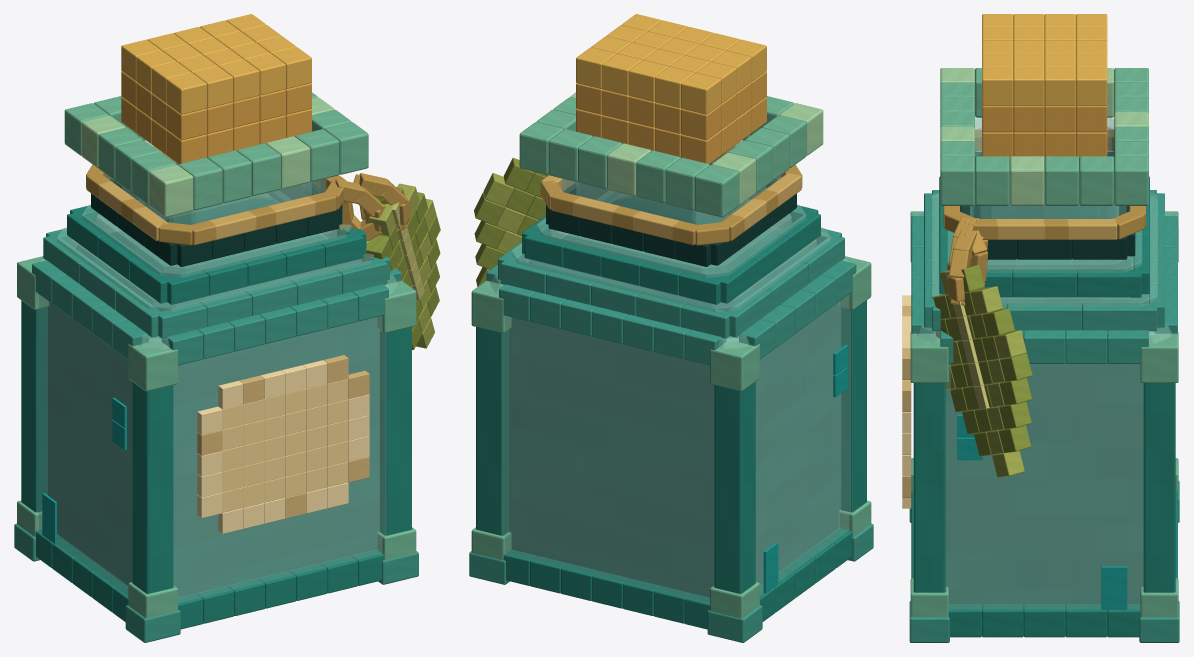
The model's file is SM_Blender_MossTonic.glb.
3 views of the same model, side by side, from view 1: azimuth 30°, elevation 25°; view 2: azimuth 150°, elevation 25°; view 3: azimuth 270°, elevation 25° (orthographic). The views are drawn at different scales.
Parts seen in each view (by area): view 1: SM_Blender_MossTonic; view 2: SM_Blender_MossTonic; view 3: SM_Blender_MossTonic.
Boxes of the visible parts, x1=… form: SM_Blender_MossTonic: x1=14, y1=14, x2=440, y2=642; SM_Blender_MossTonic: x1=469, y1=14, x2=873, y2=642; SM_Blender_MossTonic: x1=902, y1=14, x2=1179, y2=642.
Bounding box in the file's own units: 0.5962 × 0.836 × 0.3985.
3 materials, 3 textured.
